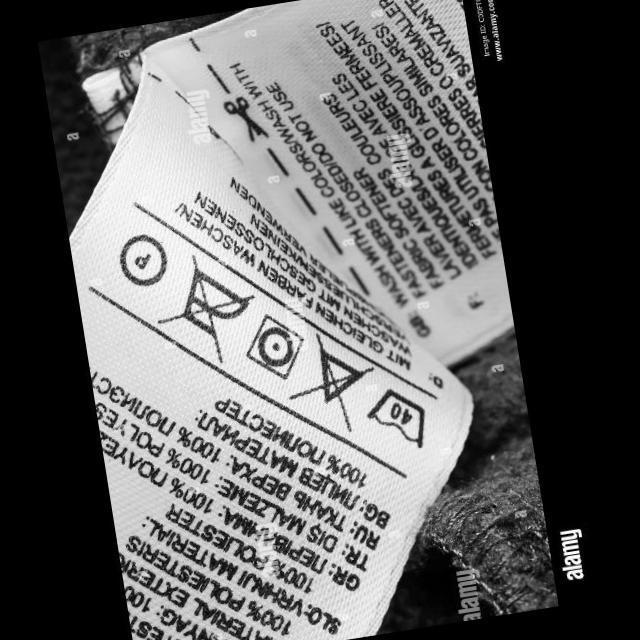40C: (361, 381, 436, 459)
DN_bleach: (276, 322, 386, 442)
DN_iron: (144, 242, 268, 373)
normal_dry_clean_solvents: (115, 228, 172, 290)
tumble_dry_low: (237, 305, 314, 388)
